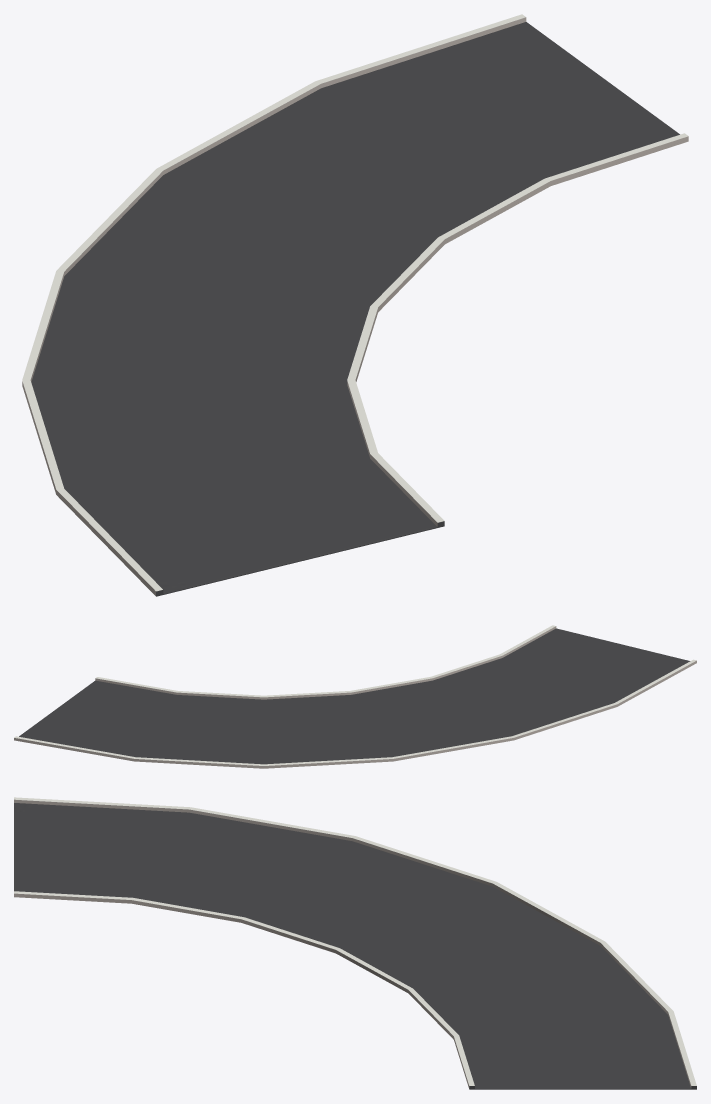
Rendered from road08.FBX.
3 views of the same model, one above another, from view 1: azimuth 30°, elevation 25°; view 2: azimuth 150°, elevation 25°; view 3: azimuth 270°, elevation 25° (orthographic). The views are drawn at different scales.
Parts seen in each view (by area): view 1: 001; view 2: 001; view 3: 001.
Boxes of the visible parts, x1,y1,x2,y2 form: 001: (22,14,688,596); 001: (14,625,696,768); 001: (14,797,696,1089).
Bounding box in the file's own units: 236 × 1.38 × 236.
1 material, 1 textured.
